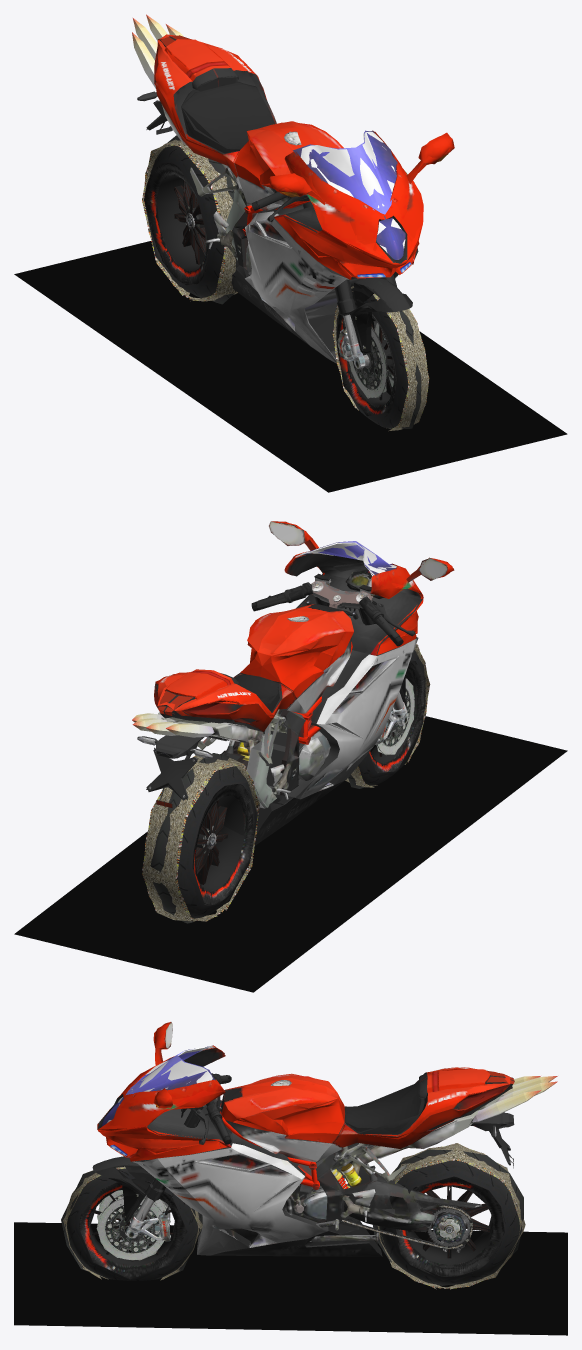
File: NV Bluster 2016 Z4 Red.fbx
3 renders of one model, top to bottom at view 1: azimuth 30°, elevation 25°; view 2: azimuth 150°, elevation 25°; view 3: azimuth 270°, elevation 25°, orthographic. The views are drawn at different scales.
Parts seen in each view (by area): view 1: Motorbike_Shadow, Body__LOD2_, Body, Body__LOD1_, Rear_Wheel__LOD2_, Rear_Tire__LOD2_, Front_Fork, Front_Wheel__LOD2_, Rear_Wheel__LOD1_, Rear_Wheel, Front_Wheel, Front_Tire__LOD2_ (+11 smaller); view 2: Motorbike_Shadow, Body__LOD2_, Body, Body__LOD1_, Rear_Tire__LOD2_, Rear_Wheel__LOD2_, Rear_Wheel_Dirt__LOD2_, Handle, Rear_Wheel__LOD1_, Rear_Wheel, Front_Wheel__LOD2_, Rear_Wheel_Dirt (+7 smaller); view 3: Motorbike_Shadow, Body__LOD2_, Body, Body__LOD1_, Front_Wheel__LOD2_, Rear_Tire__LOD2_, Rear_Wheel, Rear_Wheel__LOD2_, Front_Wheel, Swing_Arm, Rear_Wheel__LOD1_, Front_Fork (+17 smaller).
Boxes of the visible parts, x1,y1,x2,y2 form: Motorbike_Shadow: (14,241,567,492); Body__LOD2_: (144,34,454,363); Body: (137,36,452,361); Body__LOD1_: (140,39,453,361); Rear_Wheel__LOD2_: (144,163,208,285); Rear_Tire__LOD2_: (144,135,239,304); Front_Fork: (336,277,412,368); Front_Wheel__LOD2_: (336,300,397,415); Rear_Wheel__LOD1_: (149,162,207,284); Rear_Wheel: (149,163,208,284); Front_Wheel: (346,320,394,416); Front_Tire__LOD2_: (350,281,421,428); Motorbike_Shadow: (14,716,567,992); Body__LOD2_: (143,521,454,845); Body: (137,521,452,841); Body__LOD1_: (138,522,453,835); Rear_Tire__LOD2_: (150,753,257,923); Rear_Wheel__LOD2_: (192,784,254,905); Rear_Wheel_Dirt__LOD2_: (142,757,259,921); Handle: (251,573,415,646); Rear_Wheel__LOD1_: (194,784,253,904); Rear_Wheel: (195,784,254,905); Front_Wheel__LOD2_: (369,660,425,773); Rear_Wheel_Dirt: (144,757,257,920); Motorbike_Shadow: (14,1222,567,1335); Body__LOD2_: (97,1022,514,1256); Body: (98,1022,514,1256); Body__LOD1_: (97,1022,512,1256); Front_Wheel__LOD2_: (78,1181,187,1279); Rear_Tire__LOD2_: (373,1149,523,1282); Rear_Wheel: (398,1176,504,1276); Rear_Wheel__LOD2_: (398,1181,505,1275); Front_Wheel: (87,1189,176,1261); Swing_Arm: (342,1184,481,1252); Rear_Wheel__LOD1_: (396,1177,504,1276); Front_Fork: (93,1156,173,1241).
Size of the model in its own units: 110 by 115 by 250.
